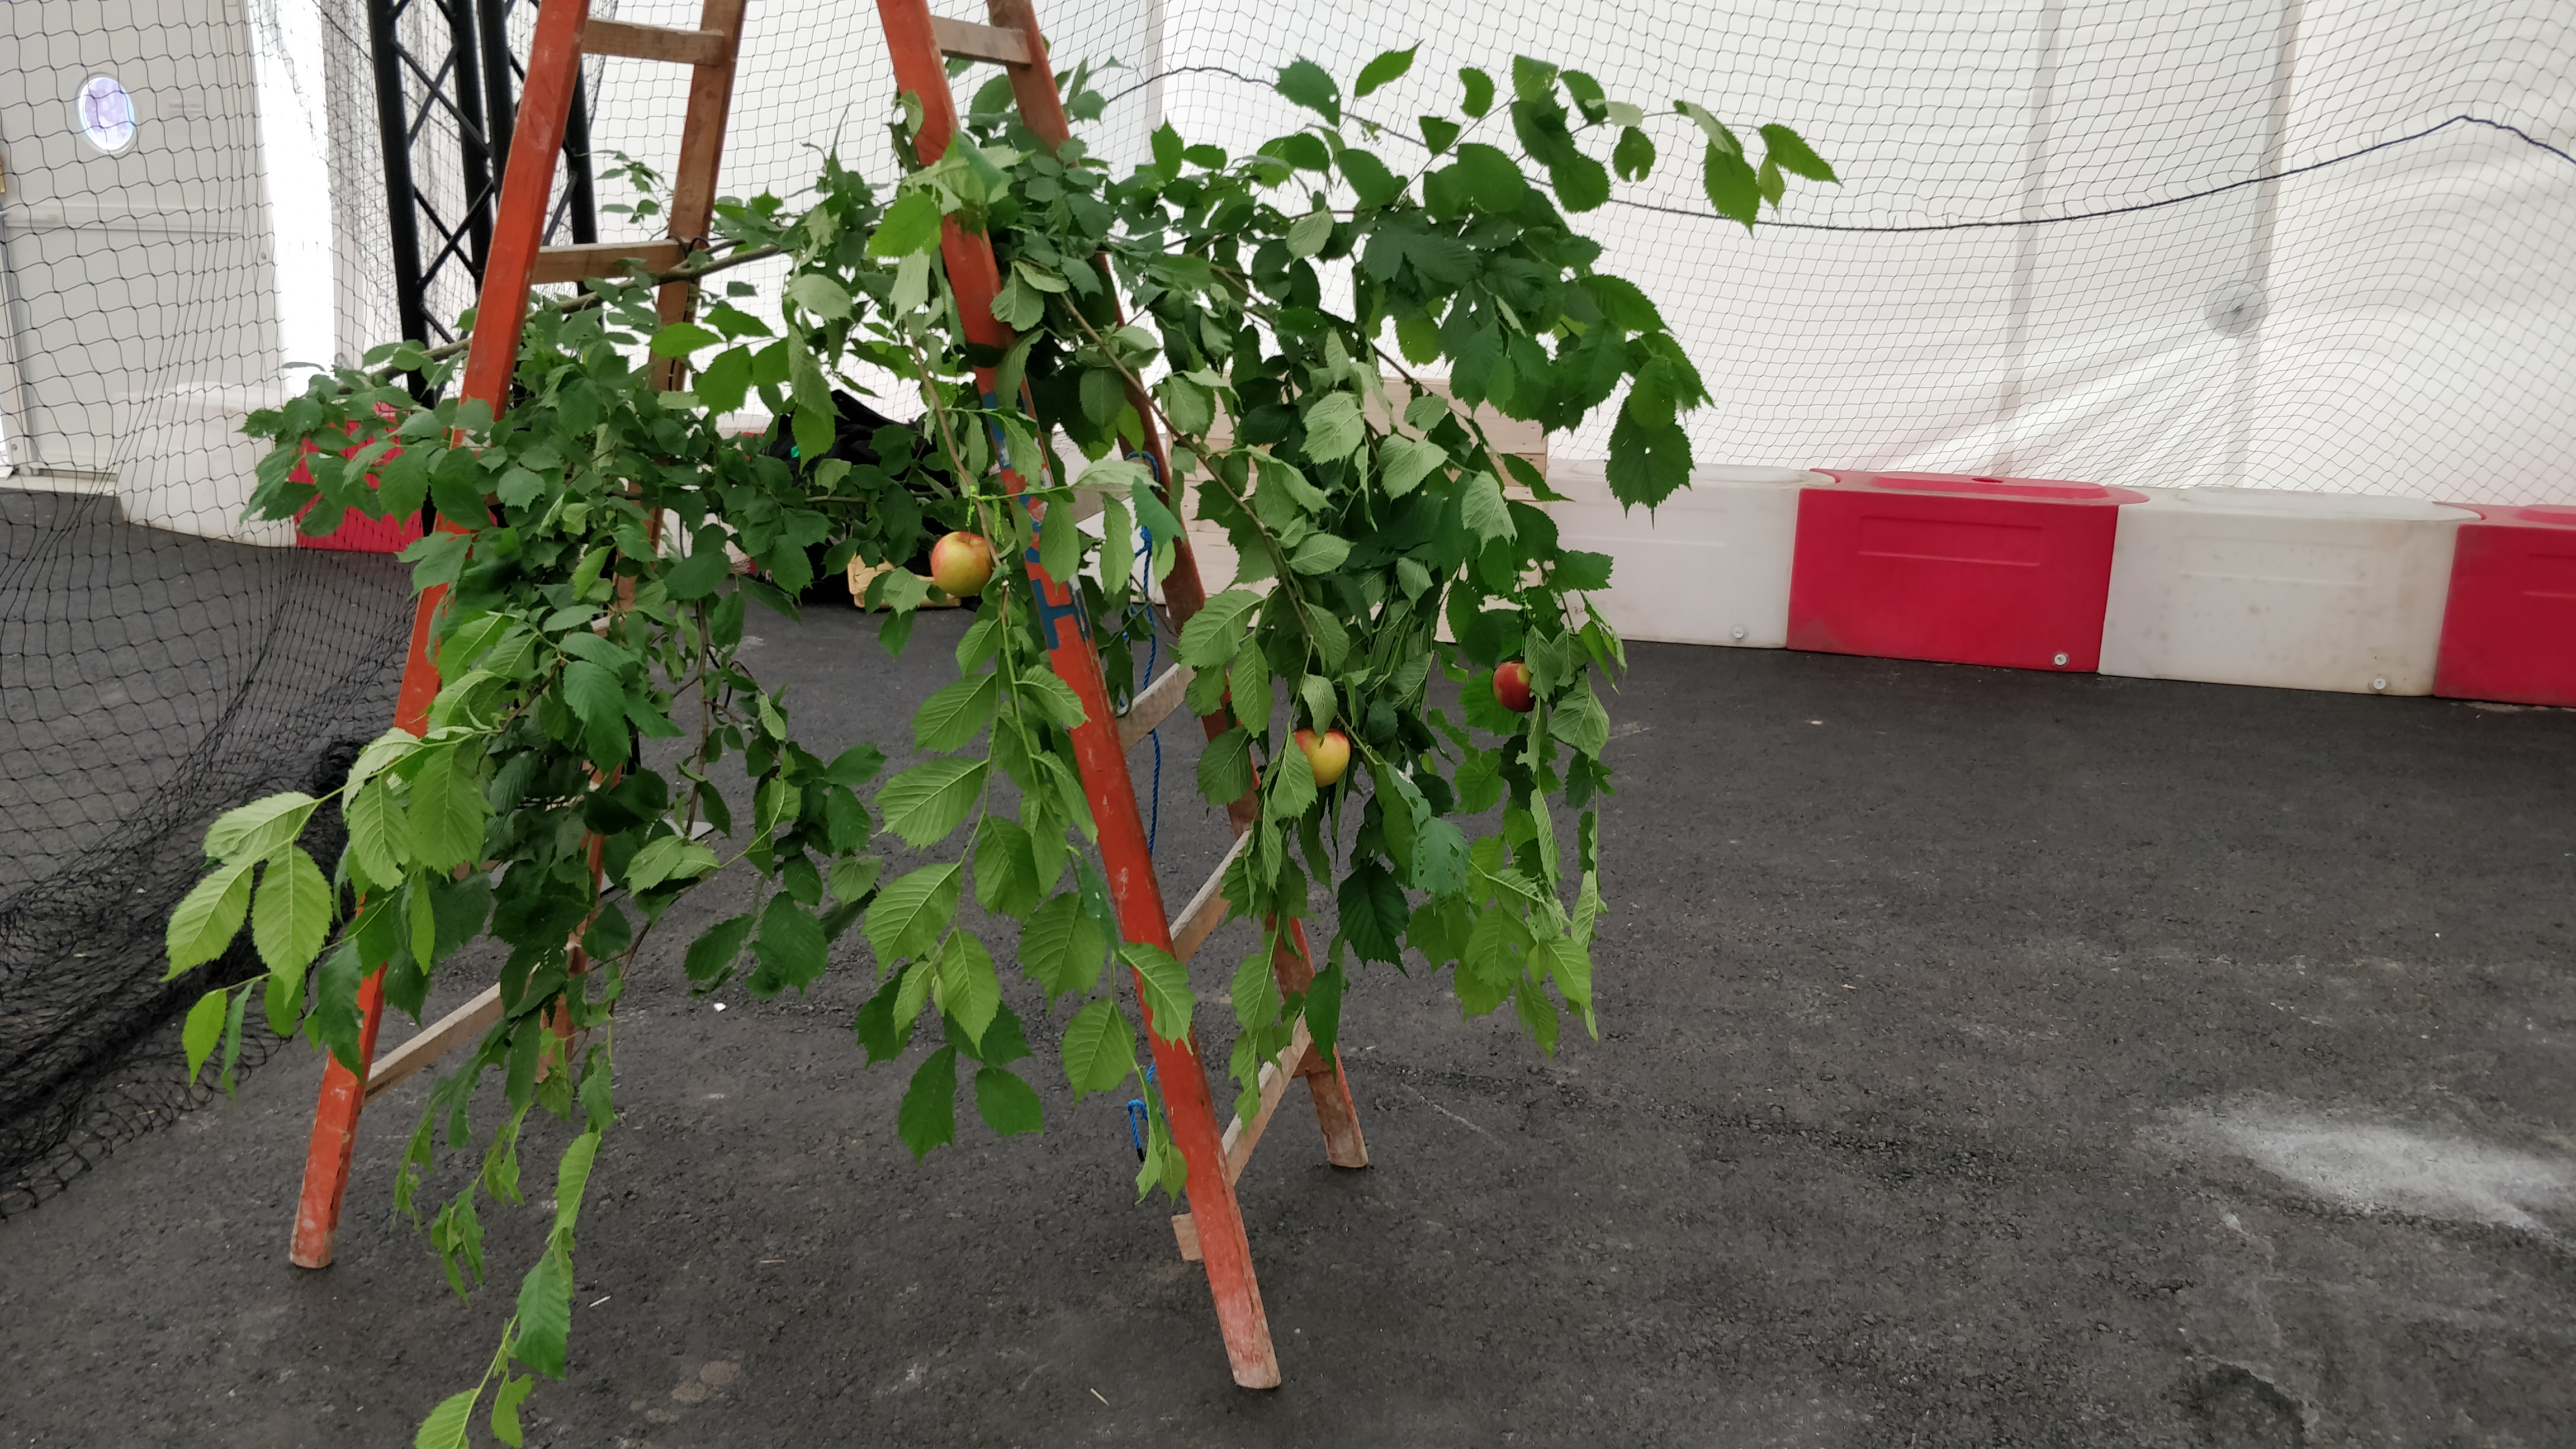apple: (931, 531, 993, 596), (1290, 729, 1350, 787), (1491, 660, 1536, 713)
